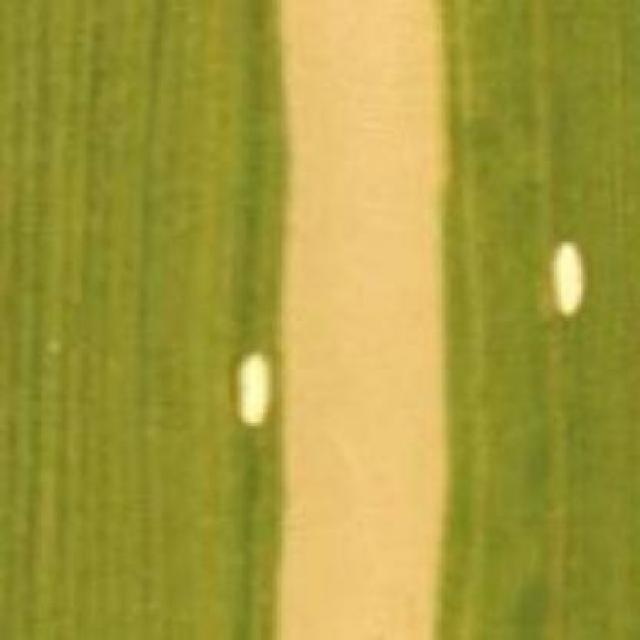whorl-maggot: (538, 238, 596, 322), (231, 344, 277, 430)
